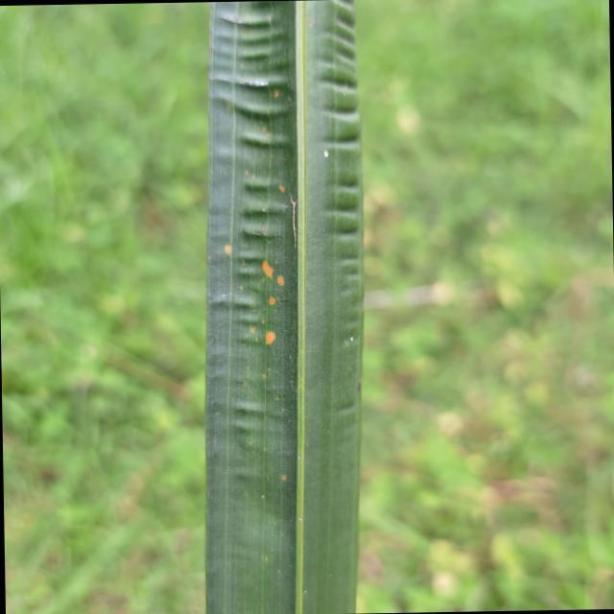Boron: (203, 0, 363, 614)
